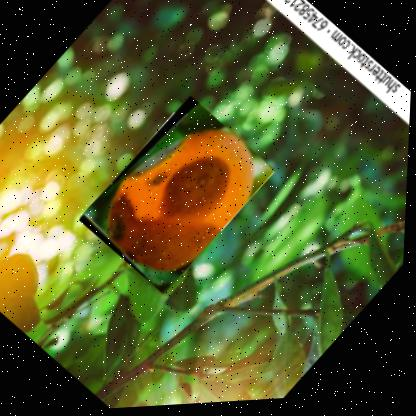orange_rotten: (76, 91, 279, 299)
